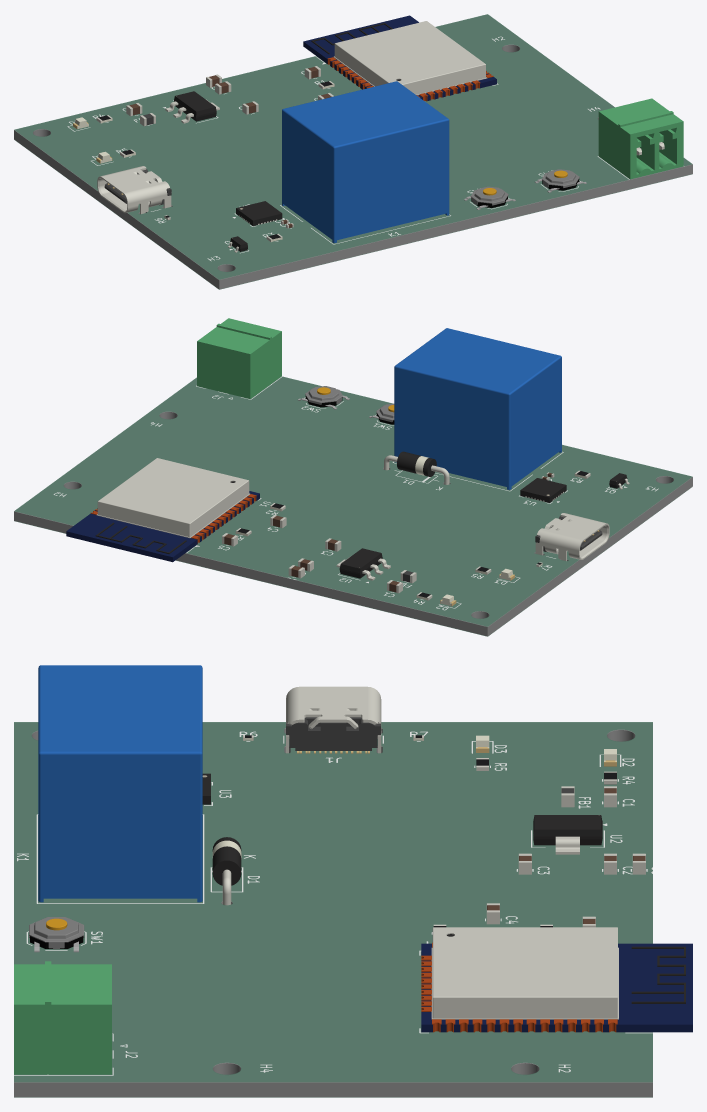
Rendered from ESP32_Simple_IoT_3D.glb.
3 views of the same model, one above another, from view 1: azimuth 30°, elevation 25°; view 2: azimuth 150°, elevation 25°; view 3: azimuth 270°, elevation 25° (orthographic). The views are drawn at different scales.
Visible parts, largest first — view 1: =>[0:1:1:20], =>[0:1:1:18], K1, U1, J2, J1, U2, =>[0:1:1:17], U3, SW2, SW1, =>[0:1:1:19]; view 2: =>[0:1:1:20], =>[0:1:1:18], K1, U1, J2, J1, =>[0:1:1:17], U2, D1, U3, SW2, =>[0:1:1:19]; view 3: =>[0:1:1:20], =>[0:1:1:18], K1, U1, J2, J1, =>[0:1:1:17], U2, SW1, D1.
Boxes of the visible parts, box(x1,y1,x2,y2) form: =>[0:1:1:20]: box(14, 15, 692, 289); =>[0:1:1:18]: box(14, 14, 692, 279); K1: box(282, 81, 449, 242); U1: box(303, 15, 496, 101); J2: box(598, 98, 683, 179); J1: box(97, 166, 171, 214); U2: box(165, 91, 219, 123); =>[0:1:1:17]: box(67, 36, 684, 261); U3: box(236, 201, 282, 225); SW2: box(535, 169, 586, 192); SW1: box(463, 186, 515, 209); =>[0:1:1:19]: box(15, 140, 692, 289); =>[0:1:1:20]: box(14, 377, 692, 636); =>[0:1:1:18]: box(14, 376, 692, 626); K1: box(394, 328, 561, 489); U1: box(66, 458, 259, 562); J2: box(197, 318, 281, 398); J1: box(535, 513, 609, 561); =>[0:1:1:17]: box(53, 376, 658, 610); U2: box(336, 548, 390, 580); D1: box(384, 451, 449, 484); U3: box(520, 478, 566, 502); SW2: box(298, 386, 349, 409); =>[0:1:1:19]: box(14, 487, 691, 636); =>[0:1:1:20]: box(14, 723, 652, 1097); =>[0:1:1:18]: box(14, 722, 652, 1082); K1: box(38, 665, 202, 902); U1: box(421, 927, 692, 1032); J2: box(14, 961, 111, 1074); J1: box(286, 686, 381, 753); =>[0:1:1:17]: box(14, 731, 652, 1075); U2: box(533, 815, 602, 854); SW1: box(29, 917, 84, 952); D1: box(212, 837, 241, 905).
Size of the model in its own units: 0.0807 by 0.019 by 0.0637.
